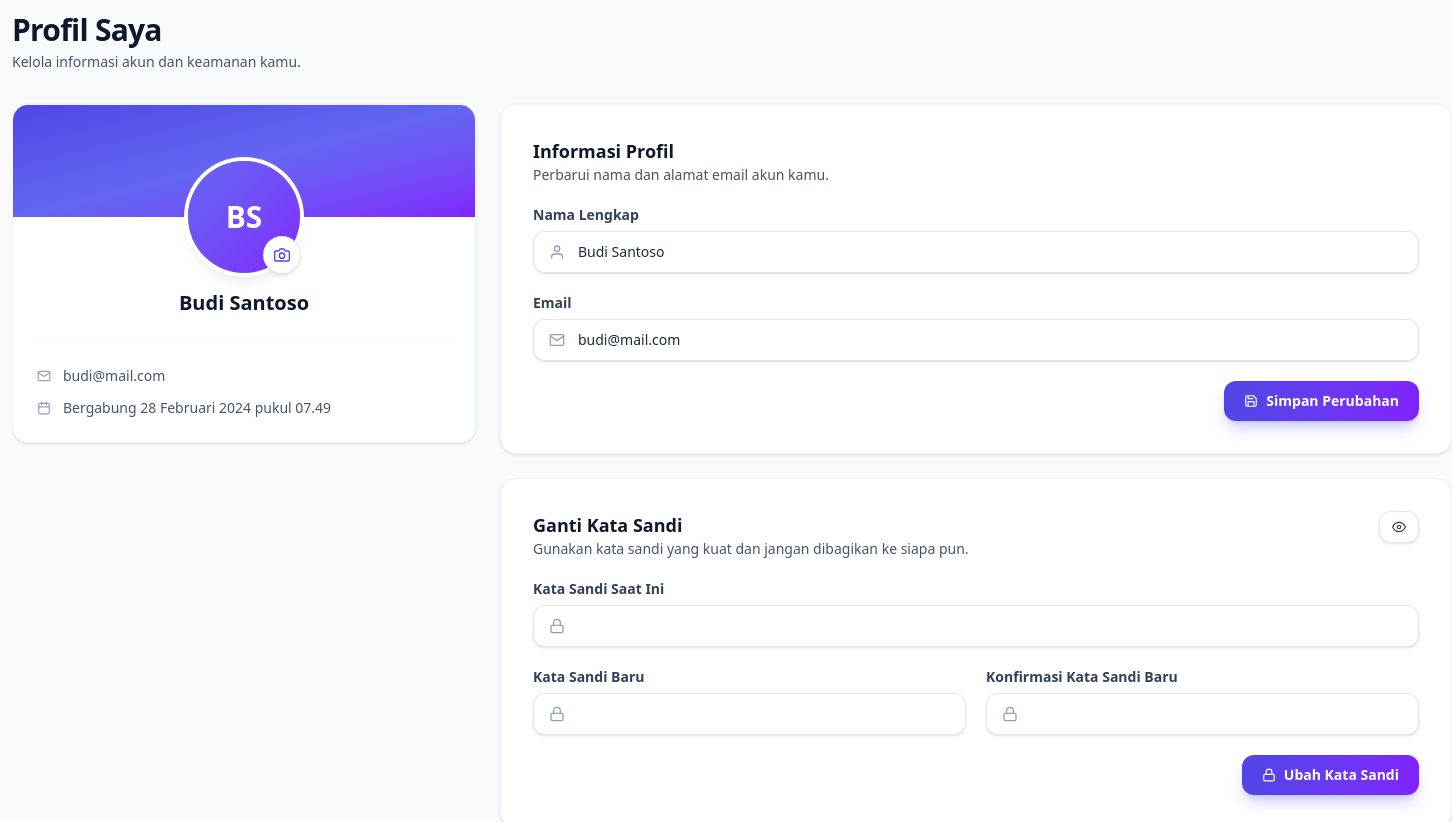
Test case: ProfilePage › ganti kata sandi › menolak sandi baru yang sama dengan sandi lama
Type "sama1234" into the password field labelled "Kata Sandi Saat Ini" at (976, 626), box [533,605,1419,647]
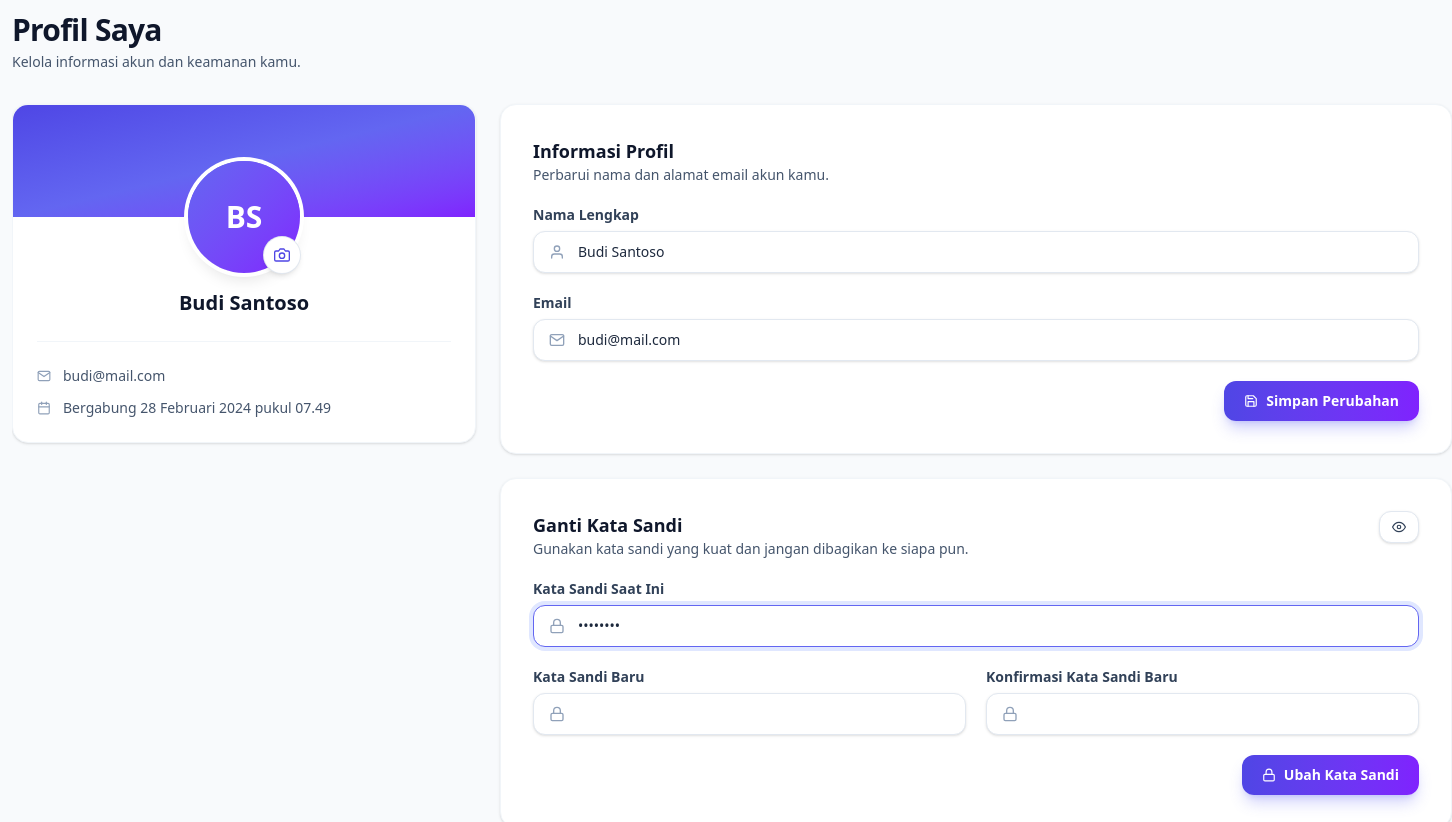
Type "sama1234" into the password field labelled "Kata Sandi Baru" at (750, 714), box [533,693,966,735]
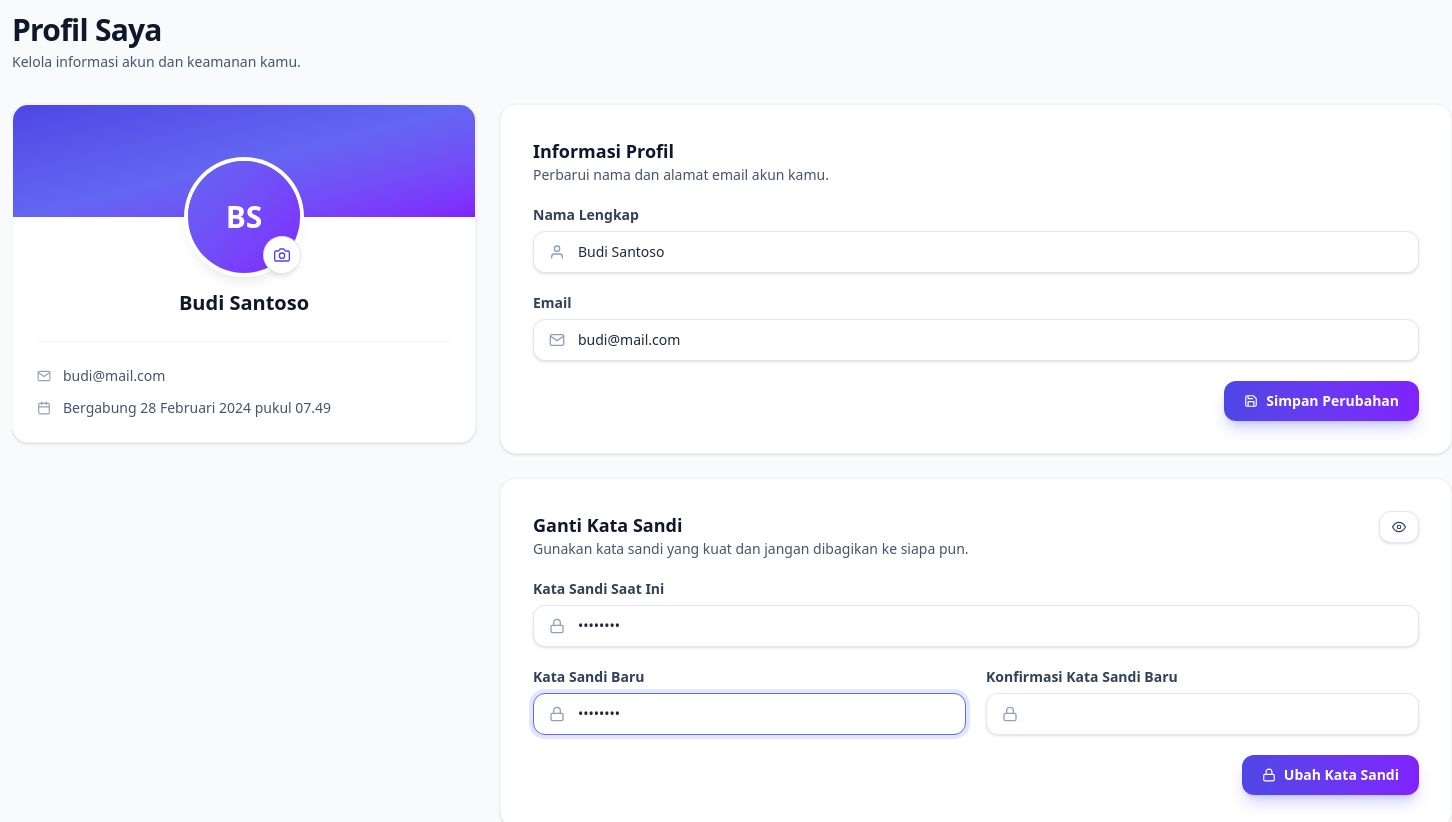
Type "sama1234" into the password field labelled "Konfirmasi Kata Sandi Baru" at (1202, 714), box [986,693,1419,735]
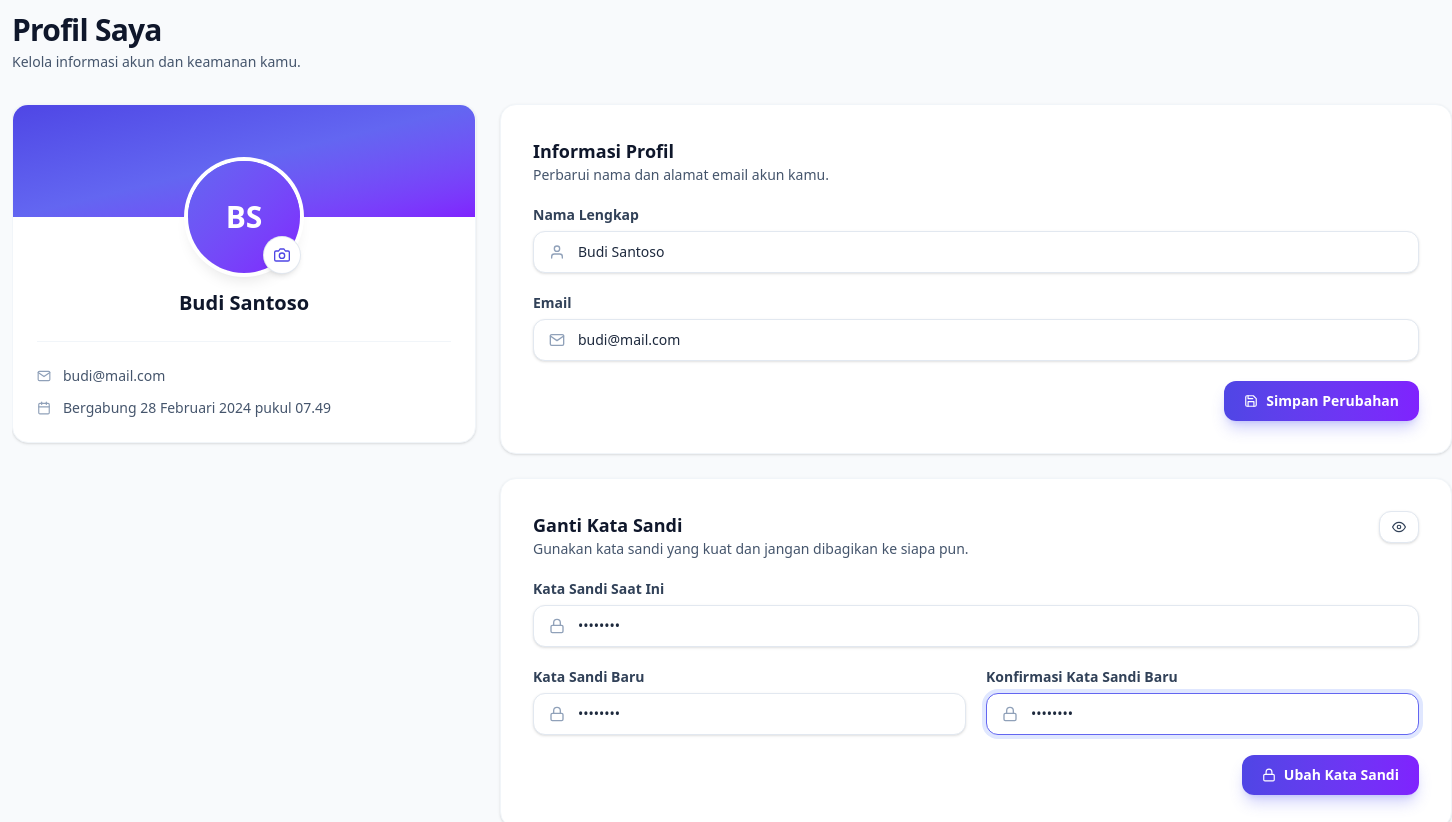
Click the button "Ubah Kata Sandi" at (1330, 775), box [1242,755,1419,795]
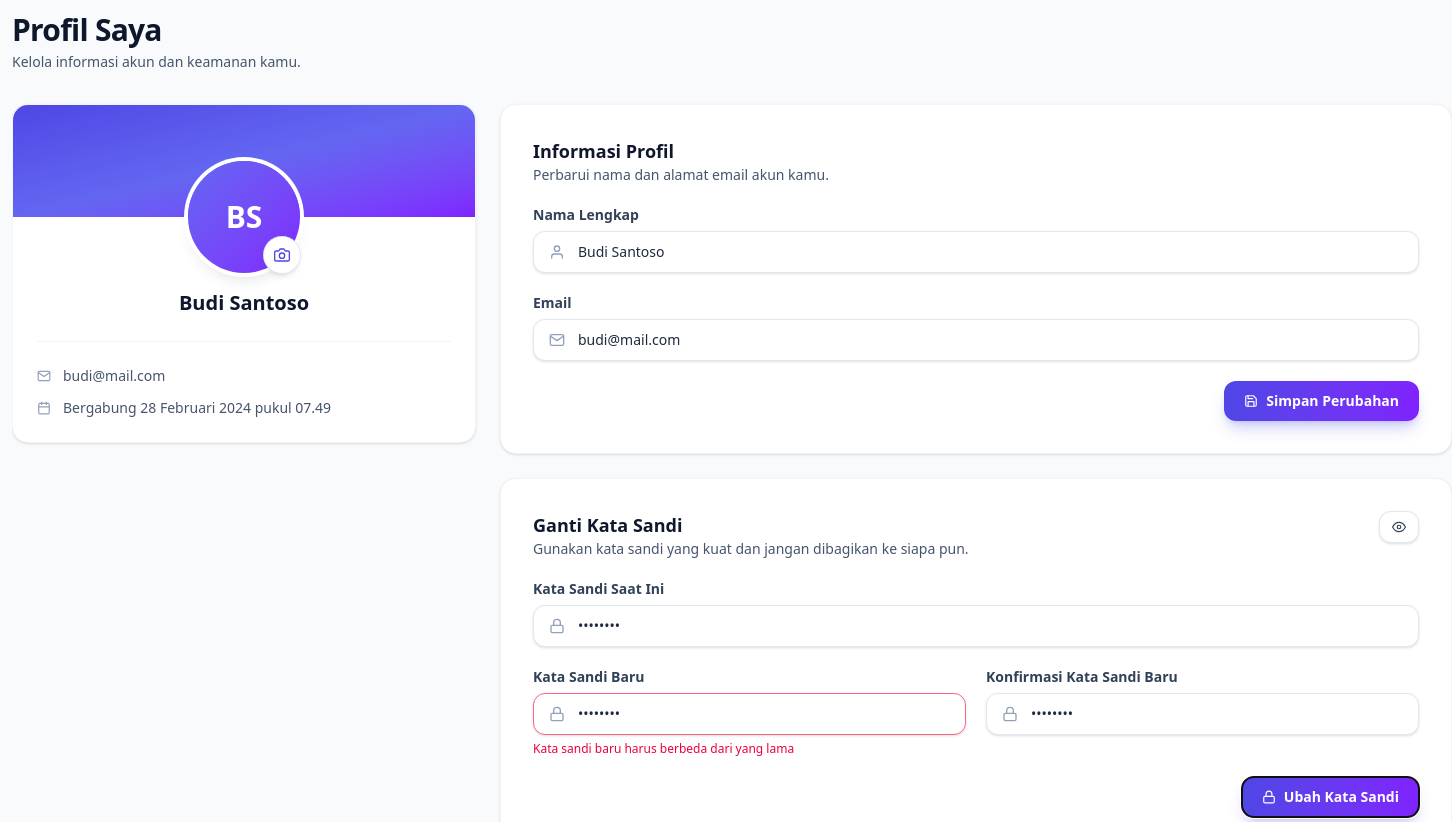
Check: the text "Kata sandi baru harus berbeda dari yang lama" is shown, box [533,740,794,757]
